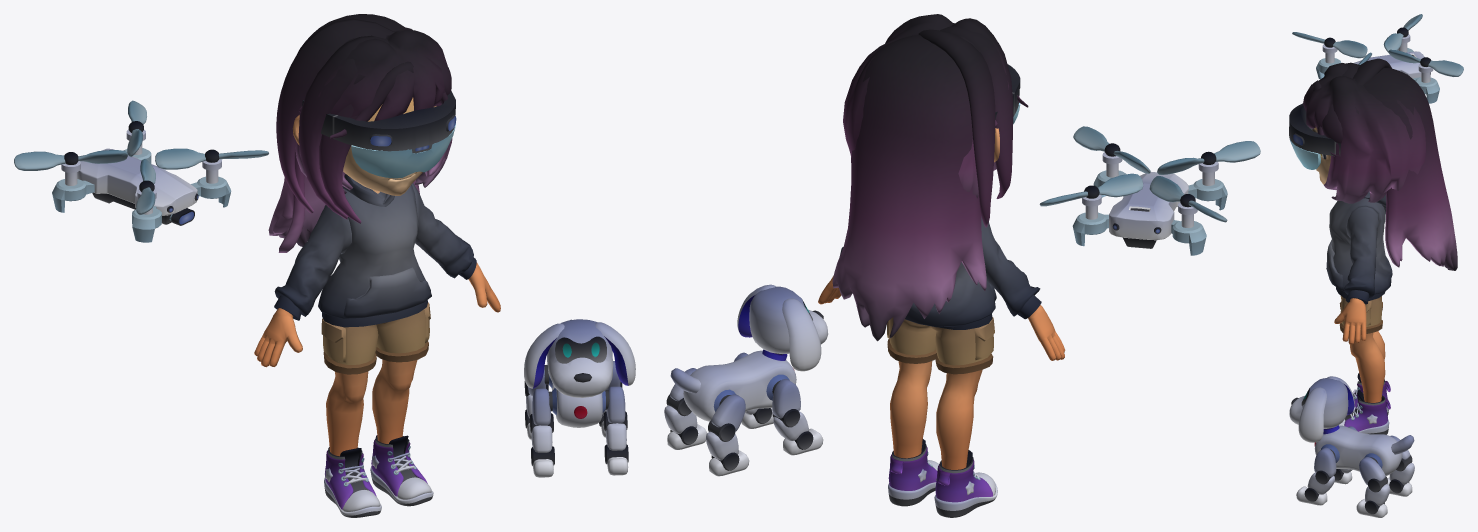
The model's file is MyAvatar.glb.
3 renders of one model, left to right at view 1: azimuth 30°, elevation 25°; view 2: azimuth 150°, elevation 25°; view 3: azimuth 270°, elevation 25°, orthographic. The views are drawn at different scales.
Parts seen in each view (by area): view 1: F_Tone01.001, Long05.001, Robot_Dog.001, Drone.001, Bob05.001, MR_Visor.001, Head02_Tone01.001; view 2: Long05.001, F_Tone01.001, Robot_Dog.001, Drone.001, Bob05.001; view 3: F_Tone01.001, Bob05.001, Long05.001, Robot_Dog.001, Drone.001, MR_Visor.001, Head02_Tone01.001.
Boxes of the visible parts, box(x1,y1,x2,y2) form: F_Tone01.001: box(254, 174, 500, 517); Long05.001: box(268, 14, 451, 252); Robot_Dog.001: box(524, 319, 635, 477); Drone.001: box(14, 100, 268, 242); Bob05.001: box(295, 27, 452, 193); MR_Visor.001: box(302, 90, 456, 178); Head02_Tone01.001: box(292, 97, 436, 195); Long05.001: box(832, 26, 1028, 341); F_Tone01.001: box(818, 216, 1065, 517); Robot_Dog.001: box(664, 284, 828, 476); Drone.001: box(1039, 126, 1260, 255); Bob05.001: box(843, 14, 1009, 198); F_Tone01.001: box(1326, 190, 1392, 434); Bob05.001: box(1303, 63, 1425, 203); Long05.001: box(1313, 58, 1457, 270); Robot_Dog.001: box(1289, 376, 1414, 517); Drone.001: box(1292, 14, 1463, 103); MR_Visor.001: box(1289, 103, 1340, 169); Head02_Tone01.001: box(1312, 126, 1330, 184).
Size of the model in its own units: 0.8009 by 0.6242 by 0.2764.
Materials: 8 (8 with a texture image).
